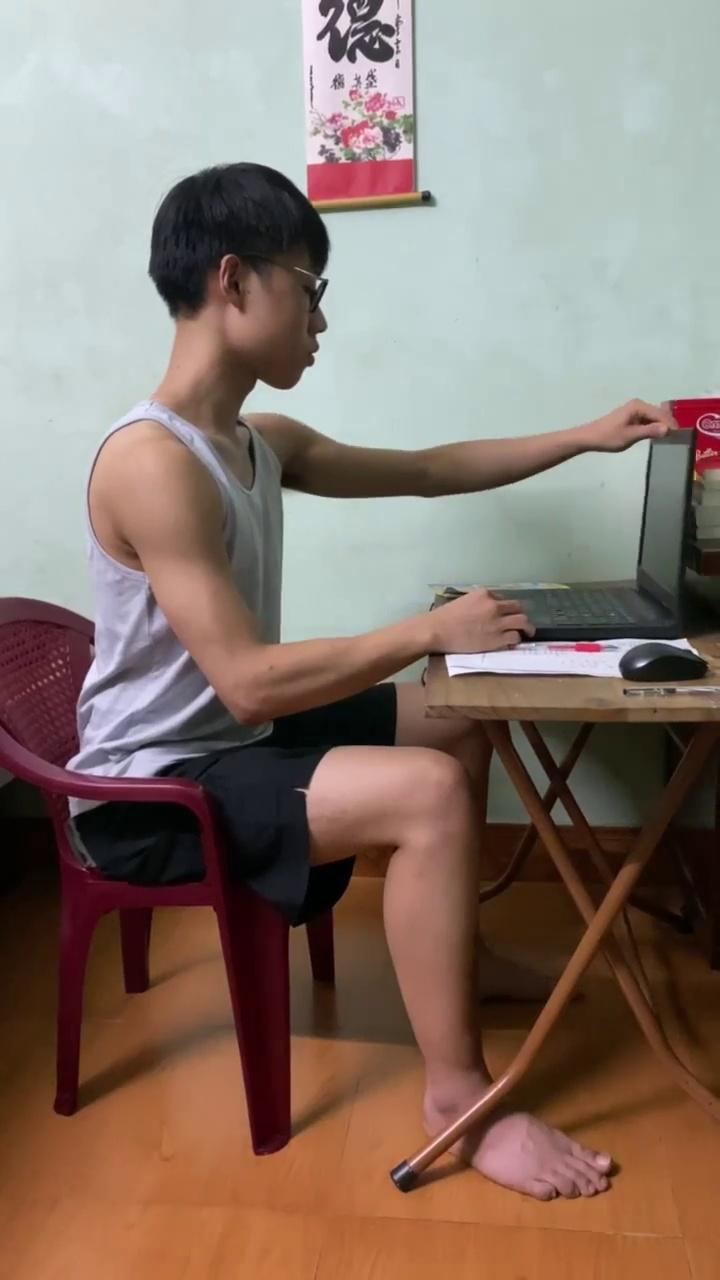GoodPosture: (68, 163, 673, 1131)
